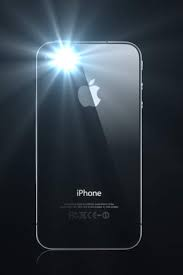flash: (49, 47, 90, 79)
